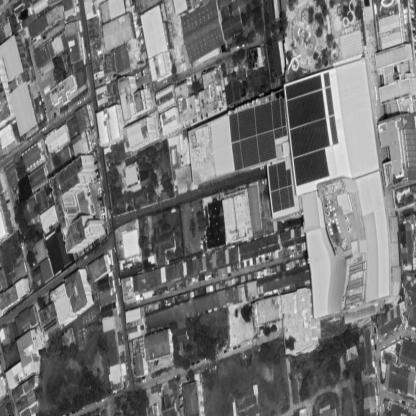solar-pv-panel: (285, 72, 339, 185), (229, 98, 288, 170), (269, 162, 295, 212)
